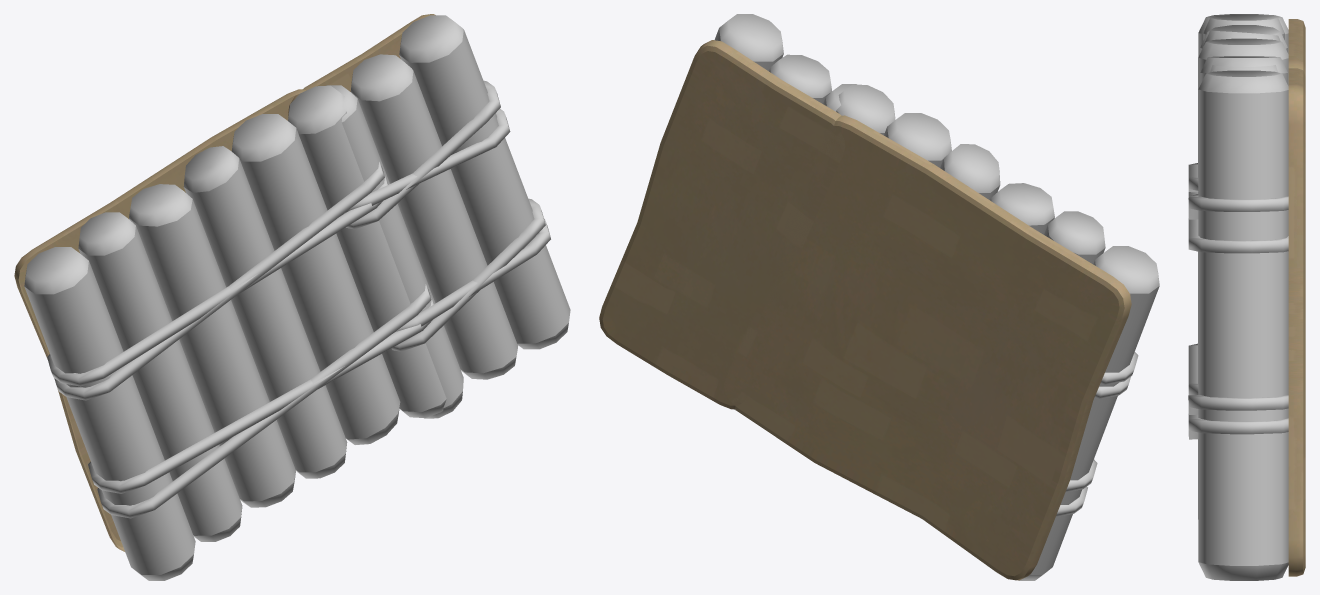
Rendered from Bridge.fbx.
3 views of the same model, side by side, from view 1: azimuth 30°, elevation 25°; view 2: azimuth 150°, elevation 25°; view 3: azimuth 270°, elevation 25° (orthographic). The views are drawn at different scales.
Parts seen in each view (by area): view 1: FloatingPlatform_6_6, FloatingPlatform_6_3_2, BambooMat_6_6, BambooMat_6_3; view 2: BambooMat_6_6, BambooMat_6_3, FloatingPlatform_6_6, FloatingPlatform_6_3_2; view 3: FloatingPlatform_6_3_2, BambooMat_6_3, FloatingPlatform_6_6, BambooMat_6_6.
Boxes of the visible parts, x1,y1,x2,y2 form: FloatingPlatform_6_6: (24, 85, 446, 580); FloatingPlatform_6_3_2: (326, 15, 570, 418); BambooMat_6_6: (14, 89, 305, 551); BambooMat_6_3: (288, 14, 435, 115); BambooMat_6_6: (724, 115, 1131, 580); BambooMat_6_3: (599, 40, 845, 409); FloatingPlatform_6_6: (836, 84, 1159, 580); FloatingPlatform_6_3_2: (714, 14, 856, 410); FloatingPlatform_6_3_2: (1188, 65, 1288, 580); BambooMat_6_3: (1288, 68, 1305, 576); FloatingPlatform_6_6: (1188, 14, 1288, 519); BambooMat_6_6: (1288, 19, 1305, 76).
Size of the model in its own units: 1450 by 1253 by 208.
